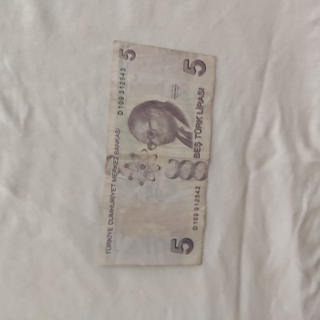5TLBack: (96, 38, 218, 267)
